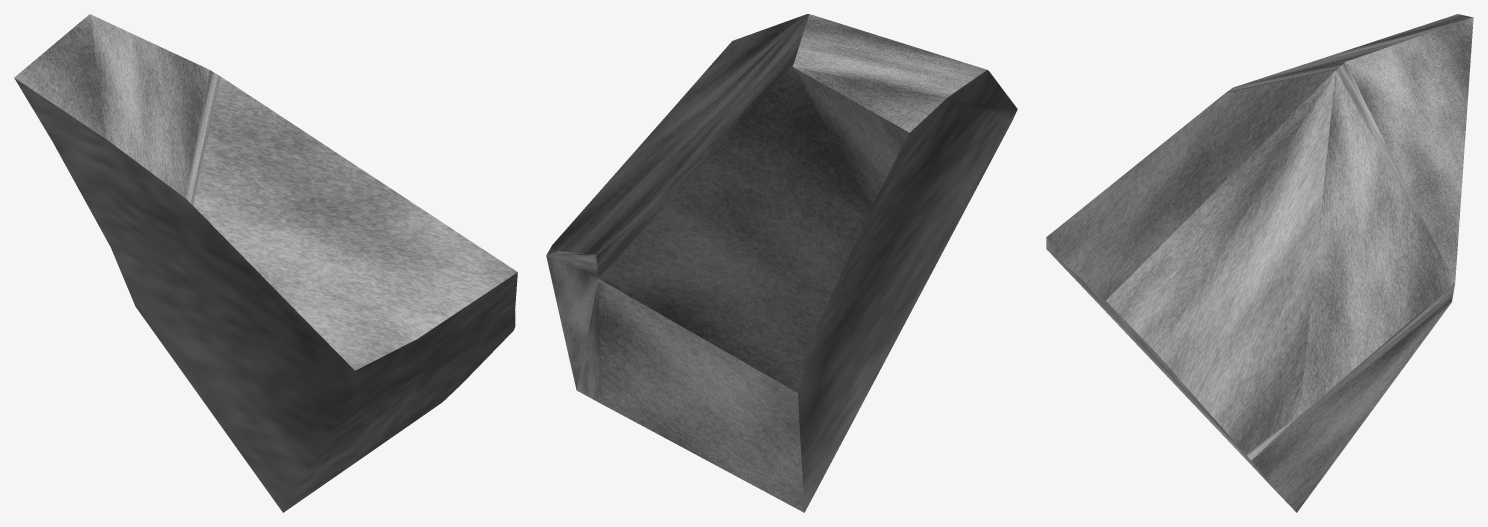
File: leg_2_cell_023.fbx
The picture shows the model from 3 angles, left to right: view 1: azimuth 30°, elevation 25°; view 2: azimuth 150°, elevation 25°; view 3: azimuth 270°, elevation 25°; orthographic projection. The views are drawn at different scales.
Parts seen in each view (by area): view 1: leg_2_cell.023; view 2: leg_2_cell.023; view 3: leg_2_cell.023.
Boxes of the visible parts, x1,y1,x2,y2 form: leg_2_cell.023: (14, 14, 517, 512); leg_2_cell.023: (546, 14, 1017, 512); leg_2_cell.023: (1046, 14, 1473, 512).
Size of the model in its own units: 30.21 by 32.88 by 29.45.
